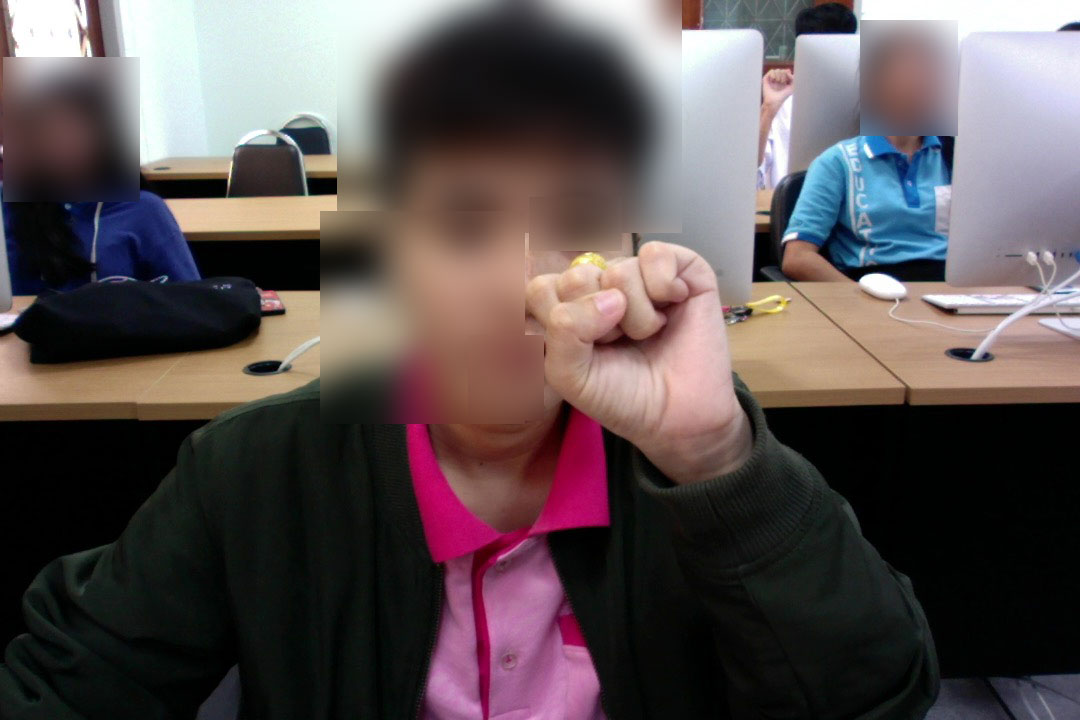sor: (523, 236, 741, 469)
